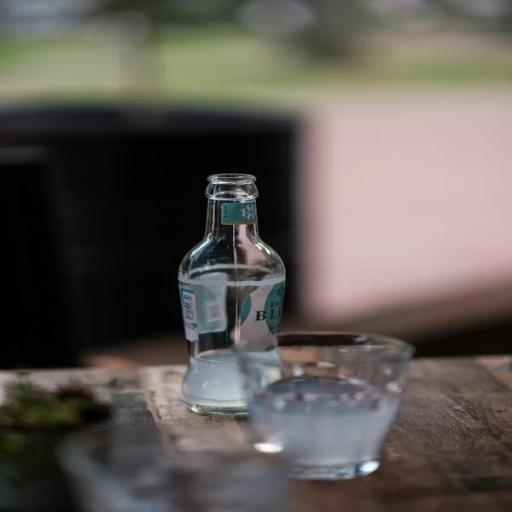bottle: (162, 163, 310, 416)
